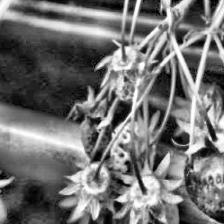Gray Mold: (66, 86, 123, 162)
